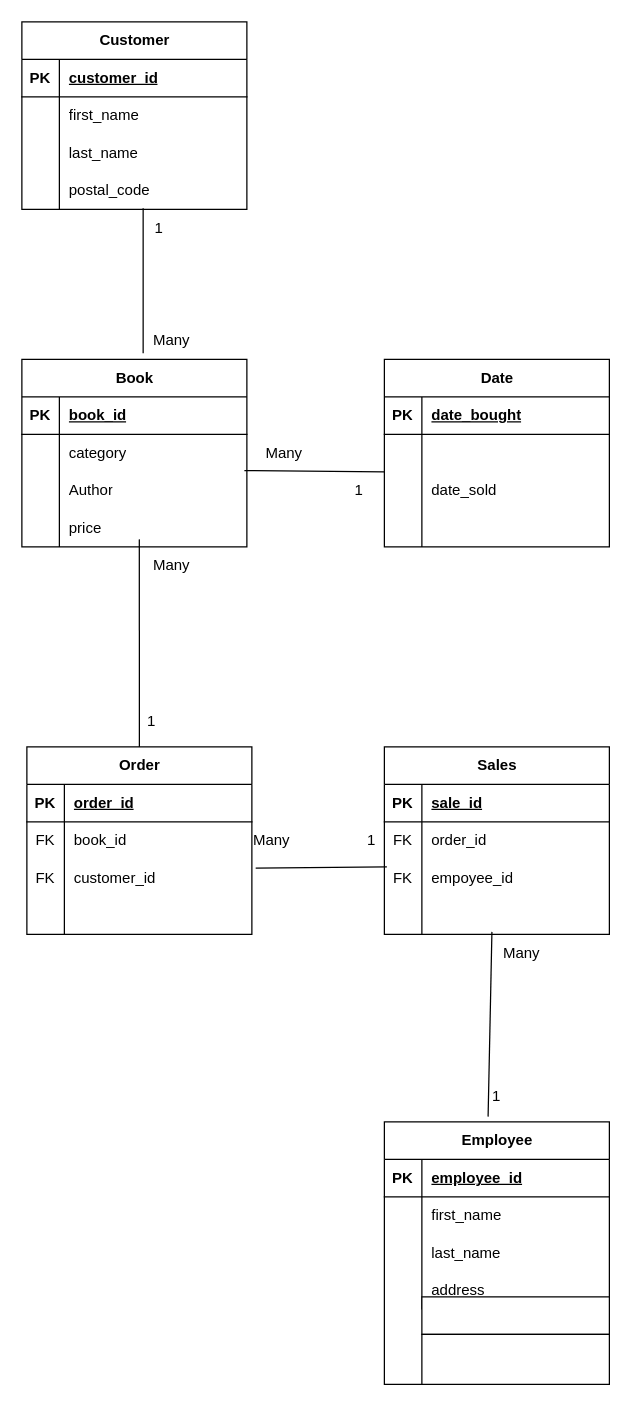
Image size: 631x1406. Some labels were removed from this diagram. The shapes that lost their labels are listed below. From the top down, each one's centre as x and y in pixels, then its label:
At (x=515, y=1315): "morning_shift (boolean)".
At (x=515, y=1358): "evening_shift (boolean)".
